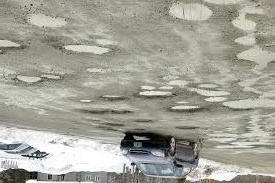pothole: (159, 2, 212, 23), (26, 10, 68, 33), (232, 48, 274, 67), (56, 41, 114, 54), (239, 117, 270, 136), (222, 100, 274, 111), (235, 74, 258, 95), (230, 16, 256, 33), (82, 63, 115, 76), (0, 34, 22, 51), (137, 88, 171, 99), (165, 77, 193, 88), (40, 68, 63, 81), (15, 73, 41, 84), (232, 34, 255, 45), (237, 5, 265, 14), (195, 89, 231, 96), (238, 139, 274, 146), (168, 104, 202, 111), (78, 96, 98, 105), (89, 107, 109, 116), (195, 81, 220, 88), (207, 135, 232, 142), (172, 125, 195, 132), (213, 143, 236, 150), (204, 95, 226, 102), (103, 93, 123, 100), (111, 108, 131, 115), (106, 120, 126, 127), (156, 84, 173, 89), (140, 84, 155, 89), (136, 117, 150, 122)
